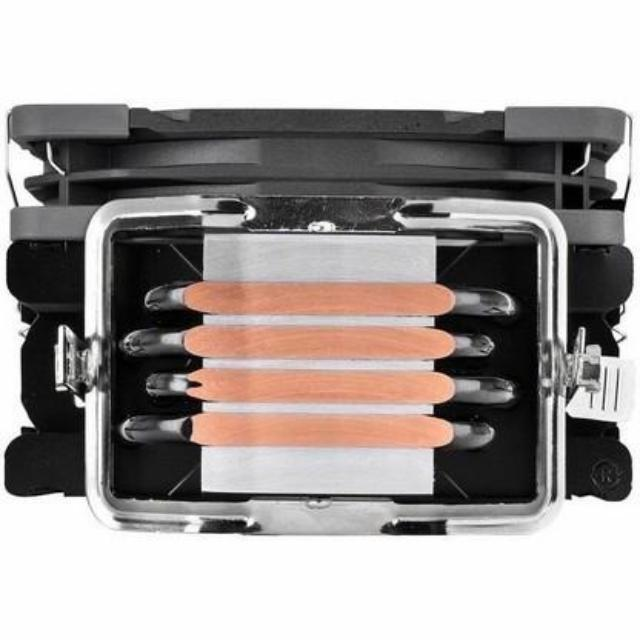CPU_Fan: (8, 100, 634, 532)
